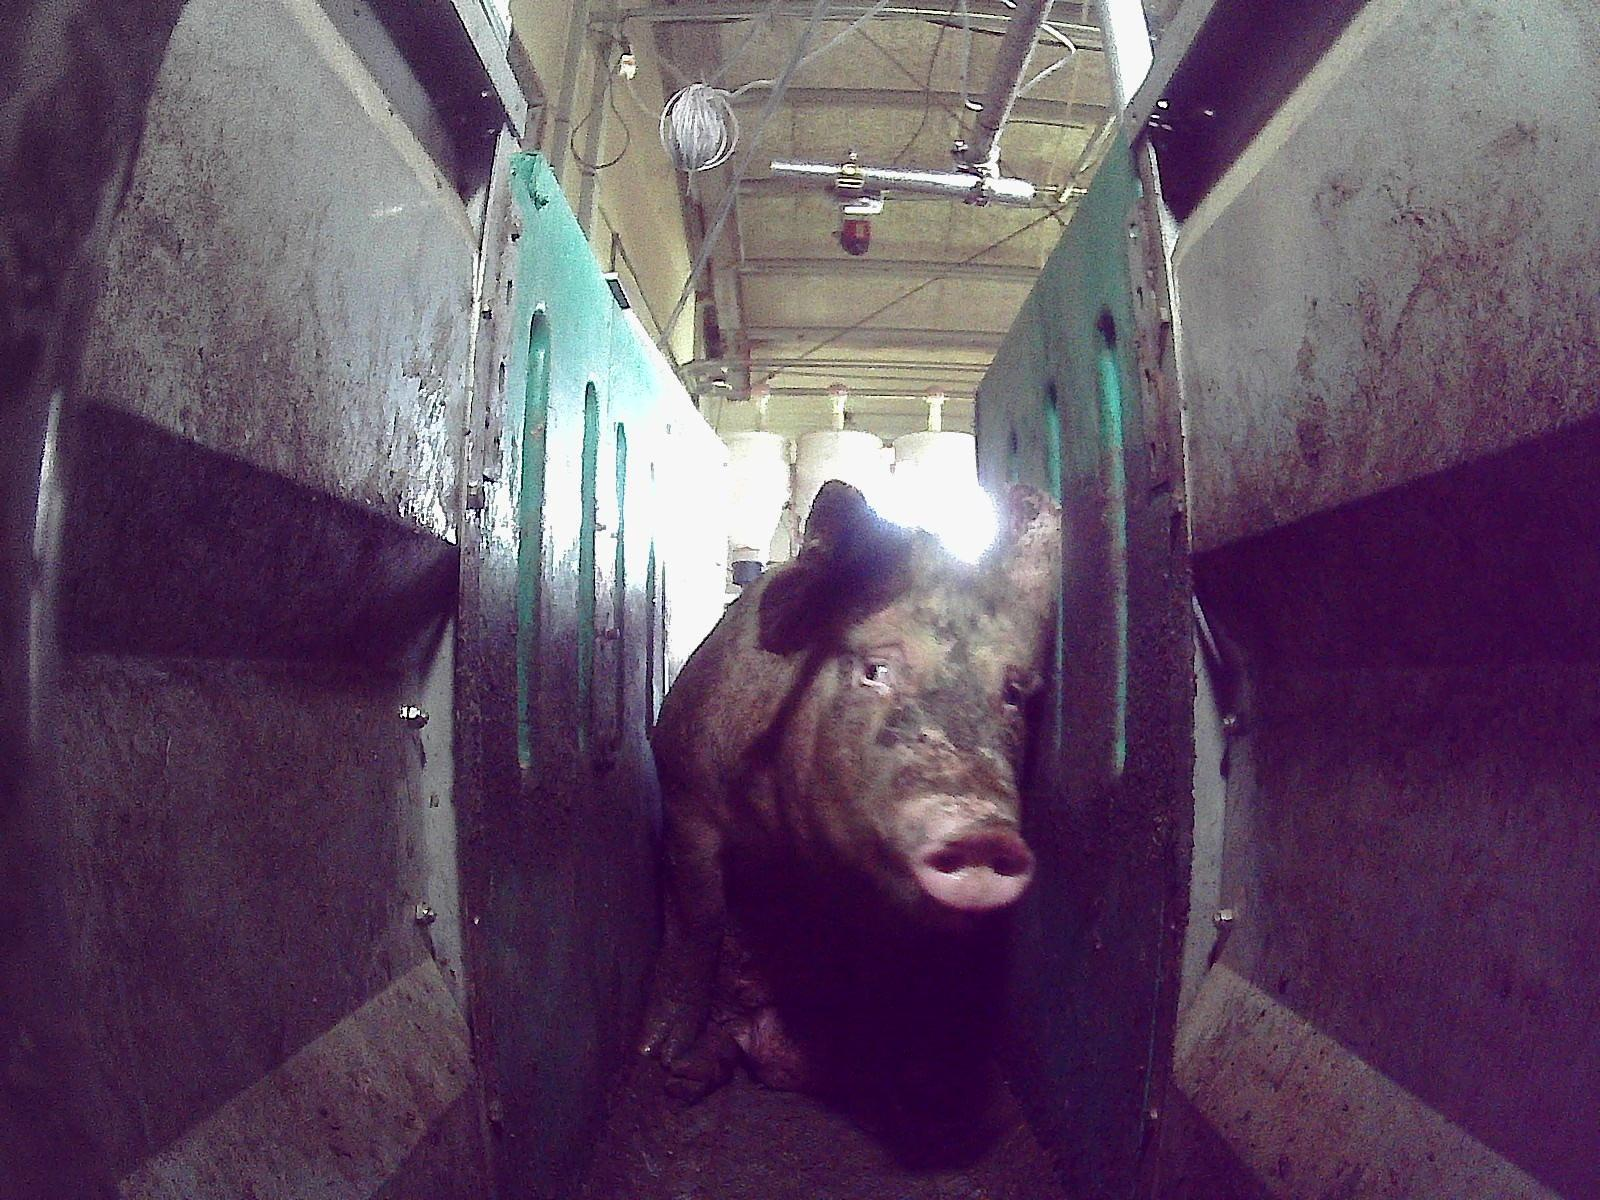Face: (775, 551, 1043, 937)
